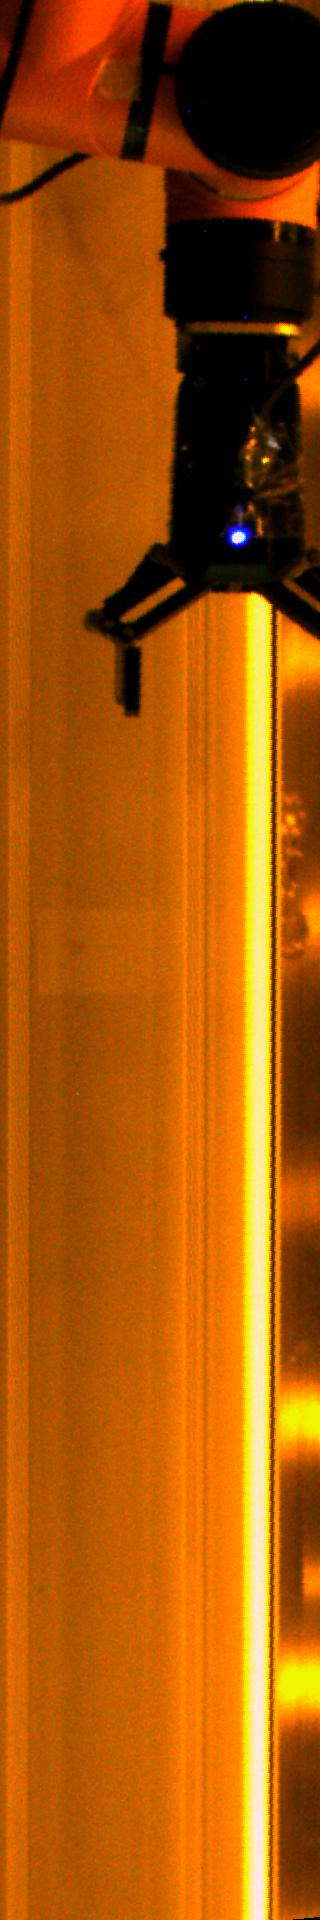keyPoint_1: (224, 523, 254, 553)
